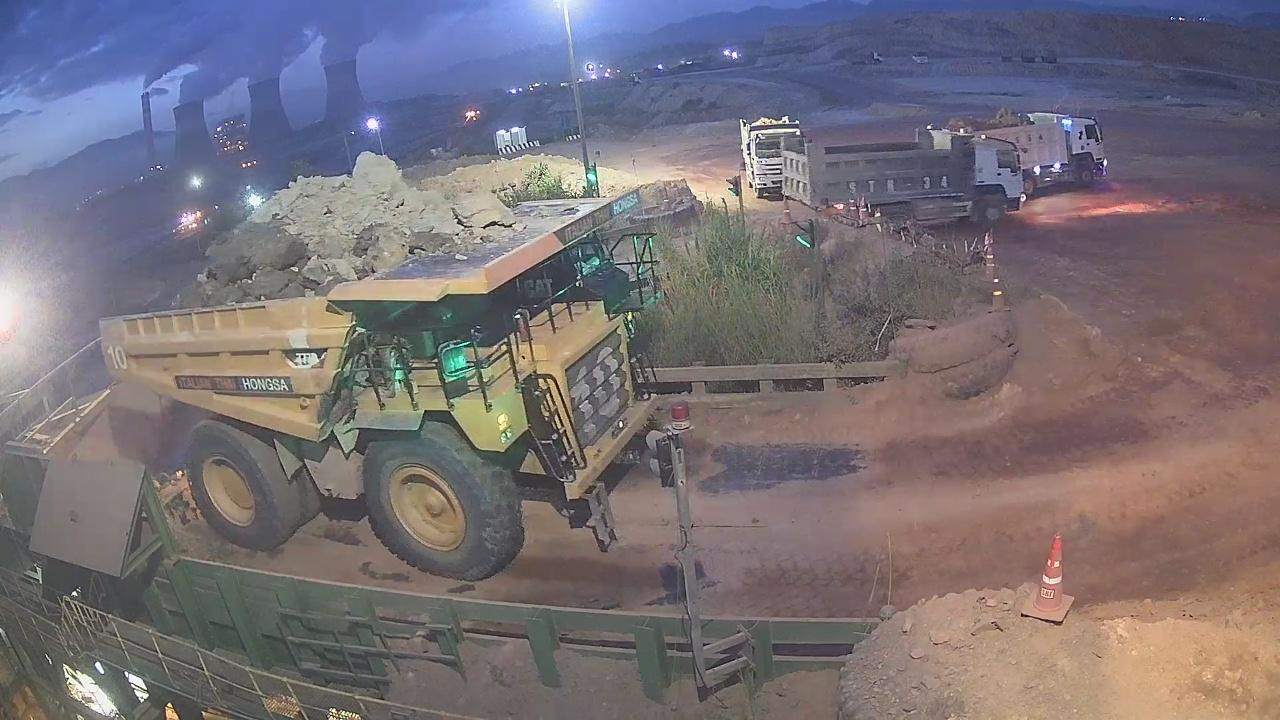company: (166, 369, 307, 401)
front_number: (562, 324, 640, 451)
full_load: (169, 143, 502, 311)
mining_truck: (96, 128, 680, 583)
tail_number: (102, 339, 133, 373)
truck_size: (279, 340, 336, 373)
